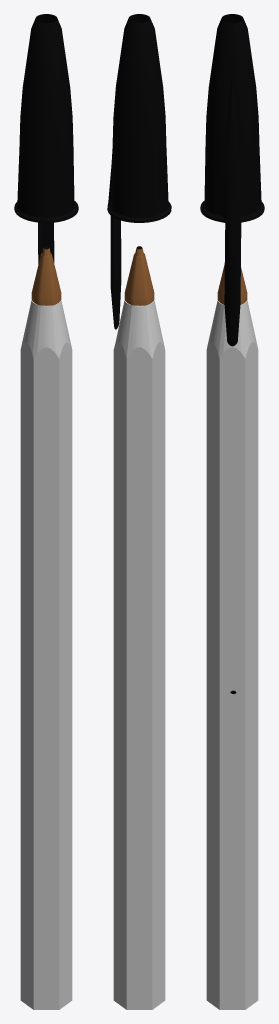
File: pen.glb
The picture shows the model from 3 angles, left to right: view 1: azimuth 90°, elevation 25°; view 2: azimuth 150°, elevation 25°; view 3: azimuth 270°, elevation 25°; orthographic projection.
Parts seen in each view (by area): view 1: pen_6, Cap_1, Tip 2_5; view 2: pen_6, Cap_1, Tip 2_5; view 3: pen_6, Cap_1, Tip 2_5.
Boxes of the visible parts, left/top/right/bottom form: pen_6: left=20, top=300, right=72, bottom=1009; Cap_1: left=14, top=14, right=78, bottom=264; Tip 2_5: left=31, top=253, right=61, bottom=305; pen_6: left=113, top=300, right=165, bottom=1009; Cap_1: left=107, top=14, right=171, bottom=329; Tip 2_5: left=124, top=253, right=154, bottom=305; pen_6: left=206, top=300, right=258, bottom=1009; Cap_1: left=200, top=14, right=264, bottom=346; Tip 2_5: left=217, top=265, right=247, bottom=304.
Bounding box in the file's own units: 2.58 × 42.15 × 2.49.
